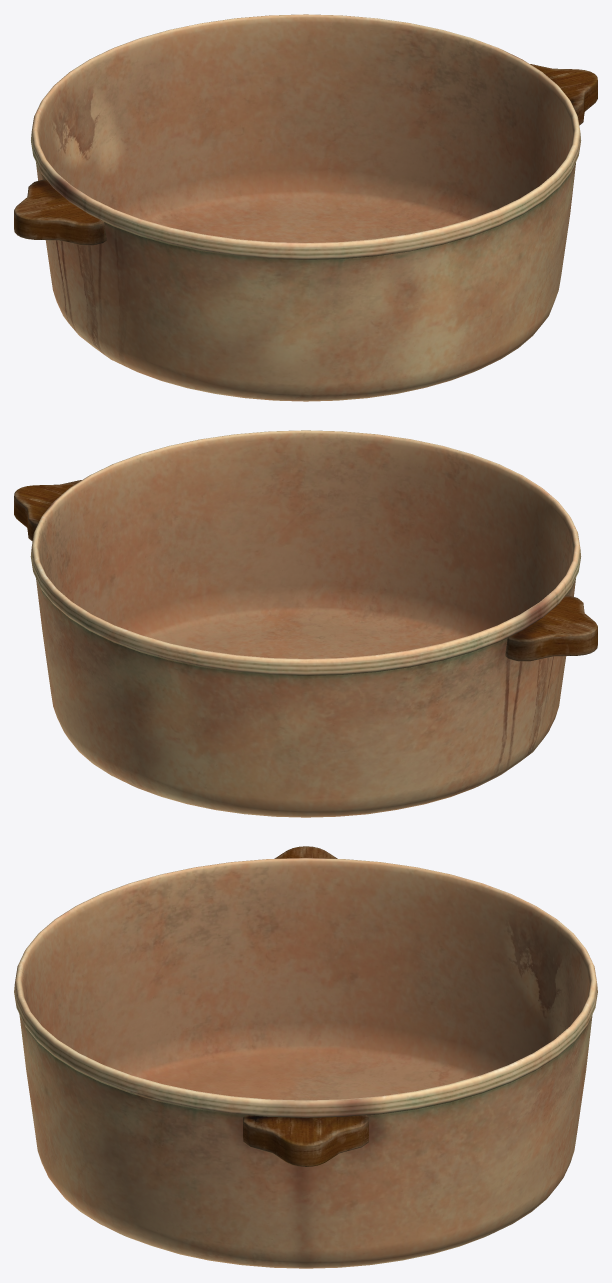
Rendered from brass_pot_02.glb.
The picture shows the model from 3 angles, top to bottom: view 1: azimuth 30°, elevation 25°; view 2: azimuth 150°, elevation 25°; view 3: azimuth 270°, elevation 25°; orthographic projection. The views are drawn at different scales.
Parts seen in each view (by area): view 1: brass_pot_02; view 2: brass_pot_02; view 3: brass_pot_02.
Boxes of the visible parts, <box> form: brass_pot_02: <box>14,14,597,401</box>; brass_pot_02: <box>14,430,597,817</box>; brass_pot_02: <box>14,846,597,1268</box>.
Bounding box in the file's own units: 0.3667 × 0.1085 × 0.3023.
1 material, 1 textured.
